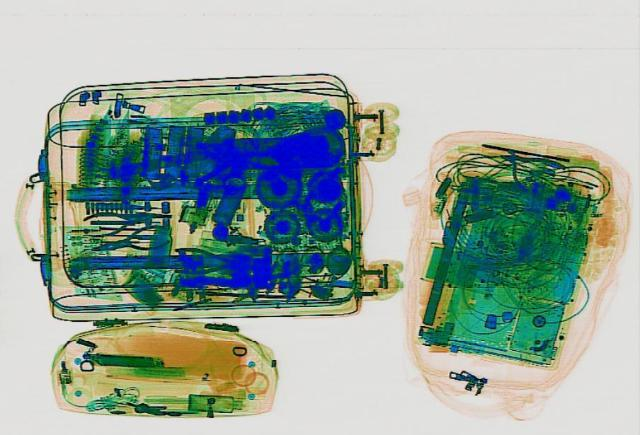Pliers: (478, 139, 566, 193), (79, 202, 175, 239), (86, 222, 174, 258), (173, 245, 249, 273)
